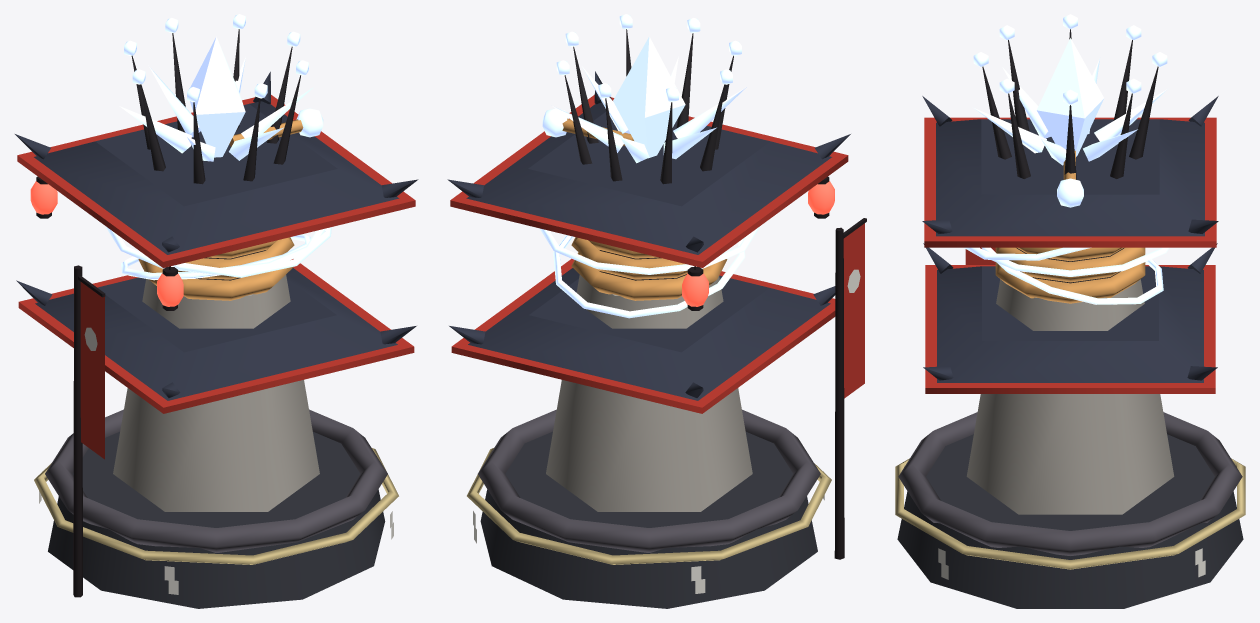
The model's file is tower_chain_tempest.glb.
3 views of the same model, side by side, from view 1: azimuth 30°, elevation 25°; view 2: azimuth 150°, elevation 25°; view 3: azimuth 270°, elevation 25° (orthographic).
Visible parts, largest first — view 1: shaft, deco_eave_0_roof, base, deco_eave_1_roof, base_rim, deco_eave_0_rim, deco_eave_1_rim, deco_shimenawa_rope, deco_nobori_cloth, crystal_core, deco_nobori_pole, coil_0 (+16 smaller); view 2: deco_eave_0_roof, base, shaft, deco_eave_1_roof, base_rim, deco_eave_0_rim, deco_eave_1_rim, crystal_core, deco_shimenawa_rope, deco_nobori_cloth, deco_nobori_pole, coil_0 (+15 smaller); view 3: shaft, deco_eave_0_roof, base, deco_eave_1_roof, base_rim, deco_eave_0_rim, deco_eave_1_rim, deco_shimenawa_rope, crystal_core, coil_0, coil_1, antenna_ring_0 (+17 smaller).
Part boxes in pixels (bbox=[...]): shaft: bbox=[113, 275, 319, 511]; deco_eave_0_roof: bbox=[34, 101, 399, 254]; base: bbox=[48, 431, 385, 608]; deco_eave_1_roof: bbox=[35, 268, 397, 400]; base_rim: bbox=[45, 409, 387, 552]; deco_eave_0_rim: bbox=[17, 95, 415, 267]; deco_eave_1_rim: bbox=[18, 259, 414, 413]; deco_shimenawa_rope: bbox=[34, 448, 398, 564]; deco_nobori_cloth: bbox=[80, 282, 104, 459]; crystal_core: bbox=[190, 36, 245, 157]; deco_nobori_pole: bbox=[73, 265, 82, 597]; coil_0: bbox=[138, 259, 293, 300]; deco_eave_0_roof: bbox=[466, 102, 831, 254]; base: bbox=[480, 431, 817, 608]; shaft: bbox=[546, 274, 752, 511]; deco_eave_1_roof: bbox=[468, 268, 830, 400]; base_rim: bbox=[478, 409, 820, 552]; deco_eave_0_rim: bbox=[450, 95, 848, 267]; deco_eave_1_rim: bbox=[451, 258, 835, 413]; crystal_core: bbox=[613, 36, 685, 158]; deco_shimenawa_rope: bbox=[467, 448, 831, 564]; deco_nobori_cloth: bbox=[843, 223, 864, 398]; deco_nobori_pole: bbox=[834, 227, 844, 559]; coil_0: bbox=[571, 252, 727, 300]; shaft: bbox=[966, 279, 1174, 514]; deco_eave_0_roof: bbox=[936, 119, 1204, 236]; base: bbox=[897, 434, 1243, 608]; deco_eave_1_roof: bbox=[937, 266, 1203, 382]; base_rim: bbox=[898, 412, 1242, 555]; deco_eave_0_rim: bbox=[924, 117, 1216, 247]; deco_eave_1_rim: bbox=[925, 265, 1215, 393]; deco_shimenawa_rope: bbox=[895, 458, 1245, 569]; crystal_core: bbox=[1036, 38, 1104, 156]; coil_0: bbox=[995, 254, 1145, 303]; coil_1: bbox=[995, 247, 1145, 282]; antenna_ring_0: bbox=[981, 247, 1163, 304].
Size of the model in its own units: 0.4387 by 0.64 by 0.4052.
